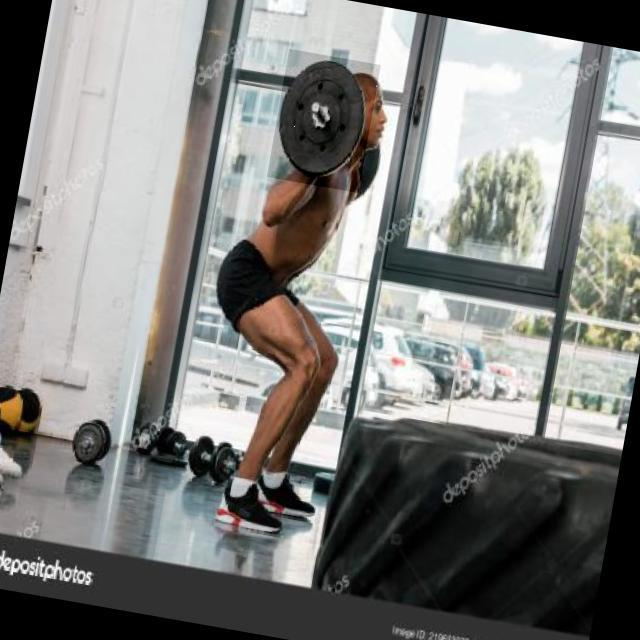barbell: (267, 50, 381, 194)
